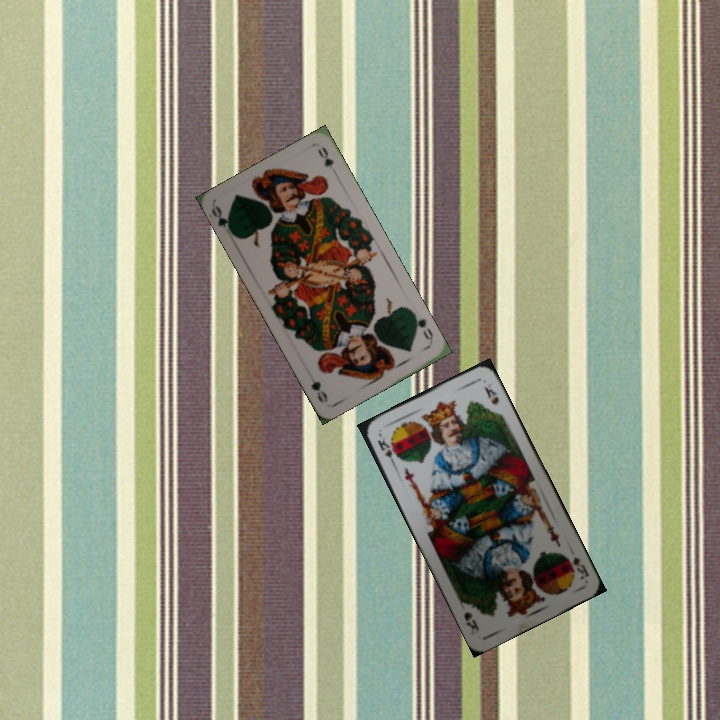GO: (207, 202, 238, 239), (409, 309, 436, 346)
SK: (373, 433, 398, 469), (563, 552, 592, 582)
